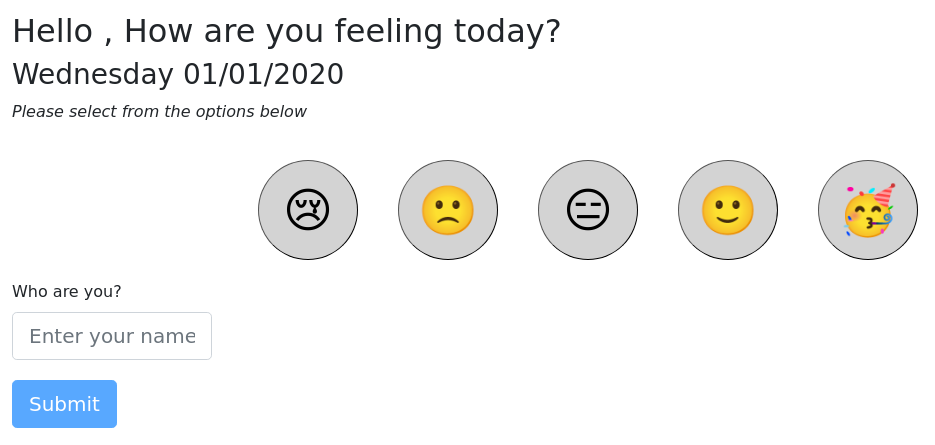
Scenario: Colleague Interface component › shows the help text only when a mood is not selected
The width and height of the screenshot is (935, 445).
Expected: the text "Please select from the options below" is shown, left=12, top=102, right=307, bottom=121
Click the button named "ecstatic": (868, 210) left=818, top=160, right=918, bottom=260
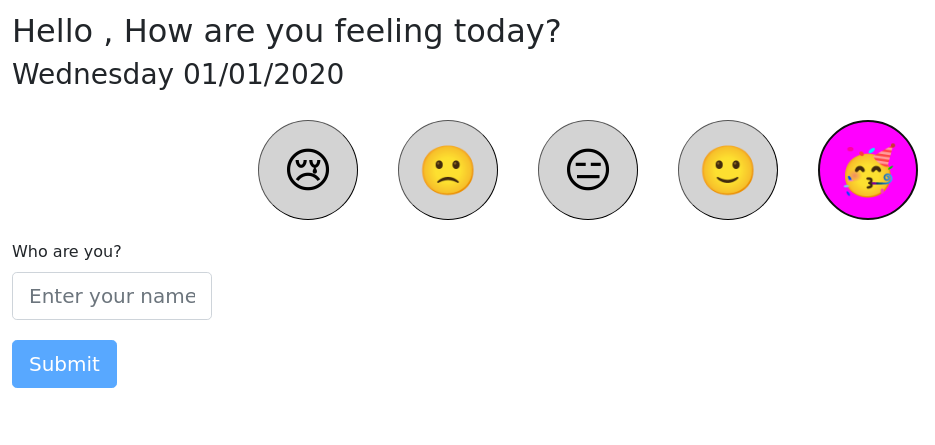
Now the text "Please select from the options below" is gone
